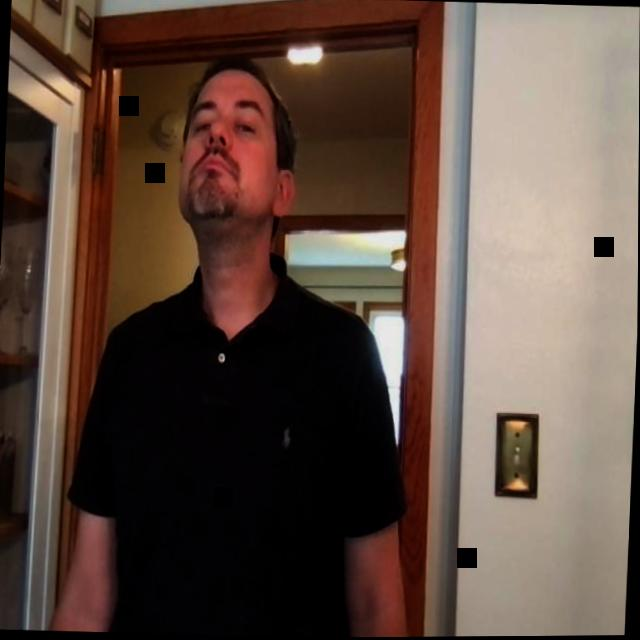NO-Mask: (175, 51, 299, 230)
